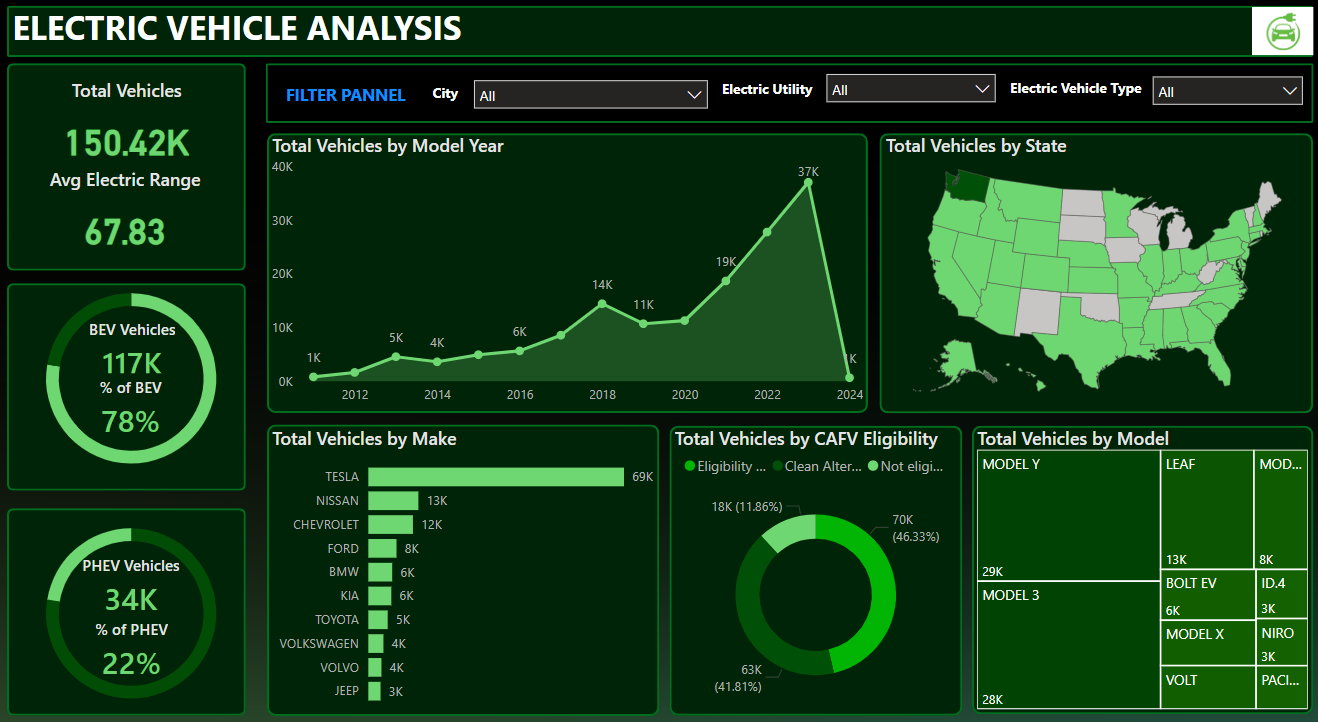

What the dashboard file says about the page in this screenshot:
{"tool":"powerbi","page":{"name":"Page 2","canvas":[1280,720],"ordinal":1},"visuals":[{"type":"shape","box":[9.7,8.4,1260.7,49.5],"z":0},{"type":"textbox","box":[9.6,2.7,463.8,60.4],"z":1000},{"type":"shape","box":[9.6,64.5,230.5,200.3],"z":2000},{"type":"cardVisual","title":"Total Vehicles","fields":{"Data":["Electric_Vehicle_Population_Data.Total Vehicles"]},"box":[27.4,78.2,194.9,86.4],"z":3000},{"type":"cardVisual","title":"Avg Electric Range","fields":{"Data":["Avg(Electric_Vehicle_Population_Data.Electric Range)"]},"box":[34.3,164.7,179.8,86.4],"z":4000},{"type":"shape","box":[9.6,275.8,230.5,200.3],"z":5000},{"type":"shape","box":[9.6,494,230.5,200.3],"z":6000},{"type":"donutChart","fields":{"Category":["Electric_Vehicle_Population_Data.Electric Vehicle Type"],"Y":["Electric_Vehicle_Population_Data.Total Vehicles"]},"box":[0,260.7,259.3,215.4],"z":7000},{"type":"cardVisual","title":"BEV Vehicles","fields":{"Data":["Electric_Vehicle_Population_Data.BEV Vehicles"]},"box":[46.7,293.7,167.4,75.5],"z":8000},{"type":"cardVisual","title":"% of Total","fields":{"Data":["Electric_Vehicle_Population_Data.%  of BEV"]},"box":[50.8,349.9,157.8,94.7],"z":9000},{"type":"donutChart","fields":{"Category":["Electric_Vehicle_Population_Data.Electric Vehicle Type"],"Y":["Electric_Vehicle_Population_Data.Total Vehicles"]},"box":[0,487.1,259.3,215.4],"z":10000},{"type":"cardVisual","title":"BEV Vehicles","fields":{"Data":["Electric_Vehicle_Population_Data.PHEV Vehicles"]},"box":[63.1,521.4,133.1,89.2],"z":11000},{"type":"cardVisual","title":"BEV Vehicles","fields":{"Data":["Electric_Vehicle_Population_Data.%  of PHEV"]},"box":[72.7,583.2,115.3,82.3],"z":12000},{"type":"shape","box":[259.3,64.5,1011.3,57.6],"z":13000},{"type":"shape","box":[260.7,131.7,580,270],"z":14000},{"type":"areaChart","fields":{"Category":["Electric_Vehicle_Population_Data.Model Year"],"Y":["Electric_Vehicle_Population_Data.Total Vehicles"]},"box":[260.7,131.7,580.4,270.3],"z":15000},{"type":"shape","box":[852.1,131.7,418.5,270.3],"z":16000},{"type":"shapeMap","fields":{"Category":["Electric_Vehicle_Population_Data.State"],"Value":["Electric_Vehicle_Population_Data.Total Vehicles"]},"box":[853.5,131.7,418.5,266.2],"z":17000},{"type":"shape","box":[260.7,413,378.7,281.3],"z":18000},{"type":"barChart","fields":{"Category":["Electric_Vehicle_Population_Data.Make"],"Y":["Electric_Vehicle_Population_Data.Total Vehicles"]},"box":[260.7,414.4,378.7,279.9],"z":19000},{"type":"shape","box":[649.1,414.4,282.7,279.9],"z":20000},{"type":"donutChart","title":"Total Vehicles by CAFV Eligibility","fields":{"Category":["Electric_Vehicle_Population_Data.Clean Alternative Fuel Vehicle (CAFV) Eligibility"],"Y":["Electric_Vehicle_Population_Data.Total Vehicles"]},"box":[649.1,414.4,282.7,278.6],"z":21000},{"type":"shape","box":[941.3,414.4,329.3,278.6],"z":22000},{"type":"treemap","fields":{"Group":["Electric_Vehicle_Population_Data.Model"],"Values":["Electric_Vehicle_Population_Data.Total Vehicles"]},"box":[941.3,414.4,329.3,278.6],"z":23000},{"type":"textbox","box":[274.4,78.2,157.8,45.3],"z":24000},{"type":"slicer","fields":{"Values":["Electric_Vehicle_Population_Data.City"]},"box":[450.1,70,245.6,42.5],"z":25000},{"type":"textbox","box":[396.6,78.2,71.4,37],"z":26000},{"type":"slicer","fields":{"Values":["Electric_Vehicle_Population_Data.Electric Utility"]},"box":[790.2,63.9,183.4,51.9],"z":27000},{"type":"textbox","box":[685.3,74.8,115.8,36.2],"z":28000},{"type":"textbox","box":[965.2,73.6,152,38.6],"z":29000},{"type":"slicer","fields":{"Values":["Electric_Vehicle_Population_Data.Electric Vehicle Type"]},"box":[1105.1,66.4,165.3,50.7],"z":30000},{"type":"image","box":[1211.7,9.6,59,46.7],"z":31000}]}

Visuals, with their boxes in screenshot pixels (x1, y1, x2, y2), scaled from the page's 1280x720 canvas onto the 1318x722 screenshot:
shape: bbox(10, 8, 1308, 58)
textbox: bbox(10, 3, 487, 63)
shape: bbox(10, 65, 247, 266)
"Total Vehicles" cardVisual: bbox(28, 78, 229, 165)
"Avg Electric Range" cardVisual: bbox(35, 165, 220, 252)
shape: bbox(10, 277, 247, 477)
shape: bbox(10, 495, 247, 696)
donutChart - Electric_Vehicle_Population_Data.Electric Vehicle Type x Electric_Vehicle_Population_Data.Total Vehicles: bbox(0, 261, 267, 477)
"BEV Vehicles" cardVisual: bbox(48, 295, 220, 370)
"% of Total" cardVisual: bbox(52, 351, 215, 446)
donutChart - Electric_Vehicle_Population_Data.Electric Vehicle Type x Electric_Vehicle_Population_Data.Total Vehicles: bbox(0, 488, 267, 704)
"BEV Vehicles" cardVisual: bbox(65, 523, 202, 612)
"BEV Vehicles" cardVisual: bbox(75, 585, 194, 667)
shape: bbox(267, 65, 1308, 122)
shape: bbox(268, 132, 866, 403)
areaChart - Electric_Vehicle_Population_Data.Model Year x Electric_Vehicle_Population_Data.Total Vehicles: bbox(268, 132, 866, 403)
shape: bbox(877, 132, 1308, 403)
shapeMap - Electric_Vehicle_Population_Data.State x Electric_Vehicle_Population_Data.Total Vehicles: bbox(879, 132, 1310, 399)
shape: bbox(268, 414, 658, 696)
barChart - Electric_Vehicle_Population_Data.Make x Electric_Vehicle_Population_Data.Total Vehicles: bbox(268, 416, 658, 696)
shape: bbox(668, 416, 959, 696)
"Total Vehicles by CAFV Eligibility" donutChart: bbox(668, 416, 959, 695)
shape: bbox(969, 416, 1308, 695)
treemap - Electric_Vehicle_Population_Data.Model x Electric_Vehicle_Population_Data.Total Vehicles: bbox(969, 416, 1308, 695)
textbox: bbox(283, 78, 445, 124)
slicer - Electric_Vehicle_Population_Data.City: bbox(463, 70, 716, 113)
textbox: bbox(408, 78, 482, 116)
slicer - Electric_Vehicle_Population_Data.Electric Utility: bbox(814, 64, 1003, 116)
textbox: bbox(706, 75, 825, 111)
textbox: bbox(994, 74, 1150, 113)
slicer - Electric_Vehicle_Population_Data.Electric Vehicle Type: bbox(1138, 67, 1308, 117)
image: bbox(1248, 10, 1308, 56)
